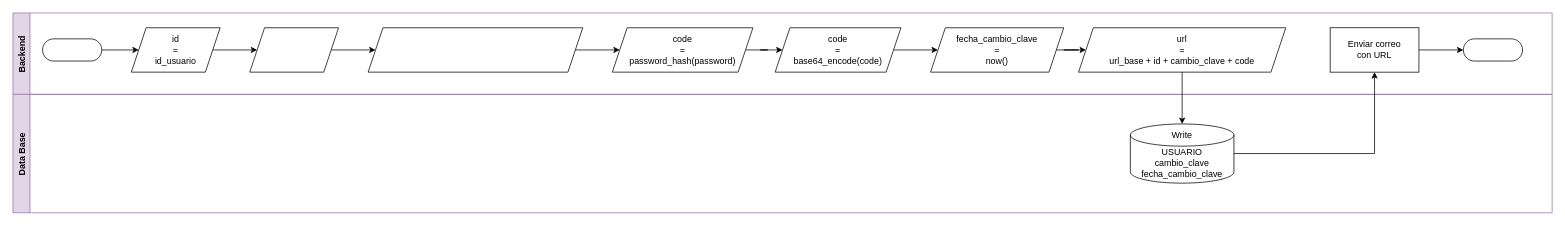
Some shapes in this 1565 by 226 pixel diagram are drawn without their labels. Here are the shapes that lost their labels. From the top down, the centre of each, then its label:
At pixel 72 49: "Inicio".
At pixel 294 49: "cambio_clave = rand(1000,9999)".
At pixel 475 49: "password = md5((id * cambio_clave) + id + cambio_clave)".
At pixel 1493 49: "Fin".
